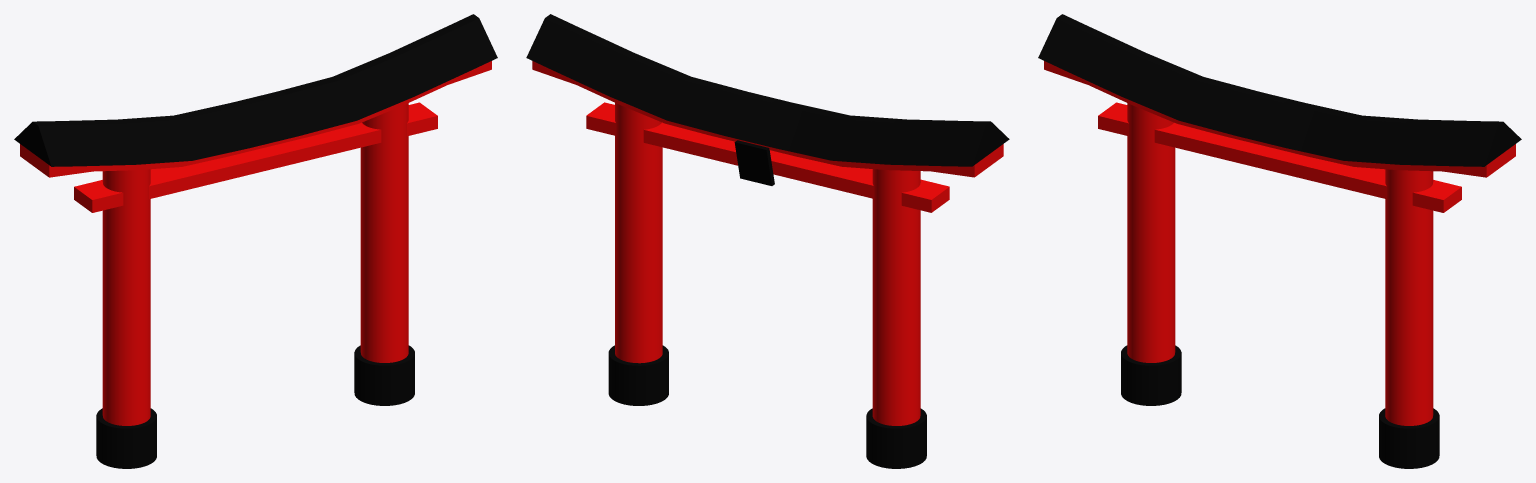
Rendered from japaneseportal.fbx.
3 renders of one model, left to right at view 1: azimuth 30°, elevation 25°; view 2: azimuth 150°, elevation 25°; view 3: azimuth 330°, elevation 25°, orthographic.
Parts seen in each view (by area): view 1: japaneseportal; view 2: japaneseportal; view 3: japaneseportal.
Boxes of the visible parts, x1,y1,x2,y2 form: japaneseportal: (14,14,497,468); japaneseportal: (526,14,1009,468); japaneseportal: (1038,14,1521,468).
Size of the model in its own units: 1619 by 1230 by 236.
